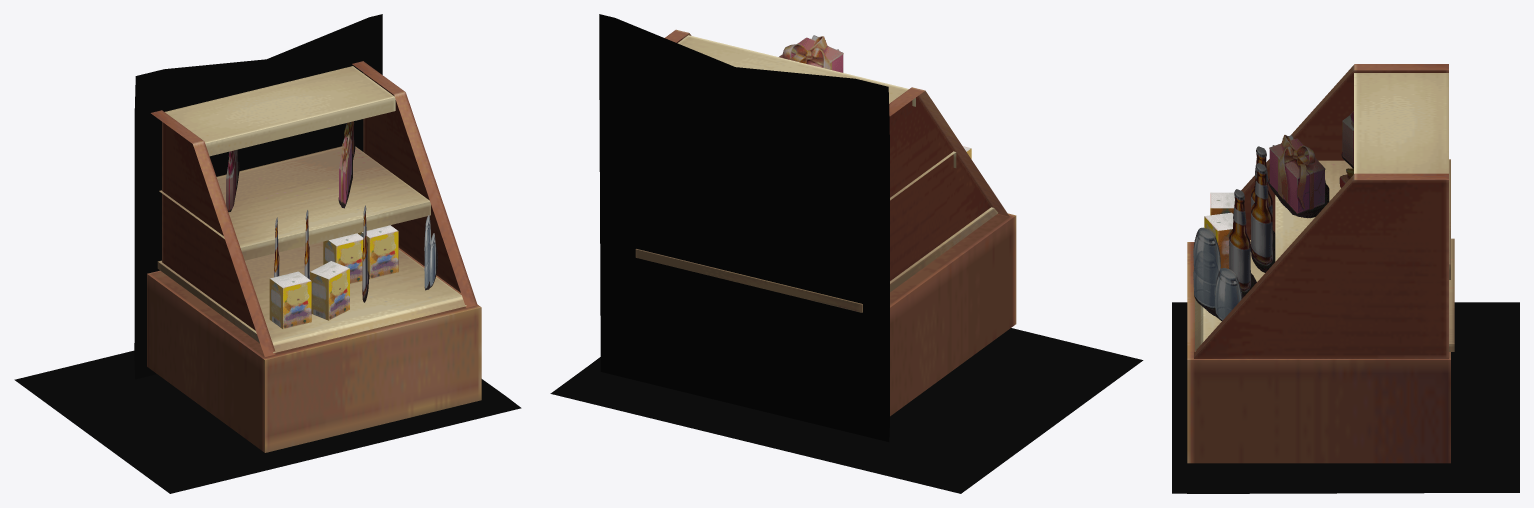
Rendered from K1_oldmilkrack.FBX.
3 views of the same model, side by side, from view 1: azimuth 30°, elevation 25°; view 2: azimuth 150°, elevation 25°; view 3: azimuth 270°, elevation 25° (orthographic). The views are drawn at different scales.
Parts seen in each view (by area): view 1: zaguizi09, zaguizi_yy, waikuang_yy006, zaguizi07, zaguizi11, zaguizi06, zaguizi08, zaguizi10, zaguizi04, zaguizi017, zaguizi016, zaguizi018 (+3 smaller); view 2: waikuang_yy006, zaguizi_yy, zaguizi09, zaguizi11, zaguizi08, zaguizi06, zaguizi15; view 3: zaguizi10, zaguizi09, zaguizi_yy, zaguizi06, zaguizi11, zaguizi15, zaguizi14, zaguizi07, zaguizi01902, zaguizi01901, zaguizi08, zaguizi017 (+3 smaller).
Boxes of the visible parts, left/top/right/bottom form: zaguizi09: left=147, top=248, right=481, bottom=452; zaguizi_yy: left=14, top=350, right=521, bottom=493; waikuang_yy006: left=134, top=14, right=382, bottom=379; zaguizi07: left=159, top=146, right=430, bottom=260; zaguizi11: left=151, top=110, right=276, bottom=356; zaguizi06: left=165, top=66, right=395, bottom=156; zaguizi08: left=157, top=241, right=466, bottom=353; zaguizi10: left=352, top=61, right=477, bottom=307; zaguizi04: left=269, top=271, right=311, bottom=329; zaguizi017: left=310, top=261, right=349, bottom=320; zaguizi016: left=358, top=225, right=398, bottom=279; zaguizi018: left=323, top=233, right=363, bottom=283; waikuang_yy006: left=599, top=14, right=889, bottom=441; zaguizi_yy: left=550, top=328, right=1143, bottom=493; zaguizi09: left=890, top=213, right=1016, bottom=416; zaguizi11: left=889, top=87, right=1009, bottom=280; zaguizi08: left=635, top=207, right=997, bottom=312; zaguizi06: left=677, top=35, right=915, bottom=106; zaguizi15: left=779, top=35, right=843, bottom=72; zaguizi10: left=1194, top=173, right=1448, bottom=358; zaguizi09: left=1187, top=242, right=1450, bottom=463; zaguizi_yy: left=1172, top=302, right=1519, bottom=493; zaguizi06: left=1354, top=73, right=1448, bottom=173; zaguizi11: left=1241, top=64, right=1448, bottom=239; zaguizi15: left=1268, top=135, right=1329, bottom=218; zaguizi14: left=1193, top=227, right=1243, bottom=320; zaguizi07: left=1275, top=159, right=1450, bottom=279; zaguizi01902: left=1250, top=163, right=1275, bottom=272; zaguizi01901: left=1229, top=189, right=1256, bottom=296; zaguizi08: left=1195, top=238, right=1454, bottom=351; zaguizi017: left=1204, top=212, right=1233, bottom=268.
Size of the model in its own units: 70.8 by 58.88 by 54.31.
